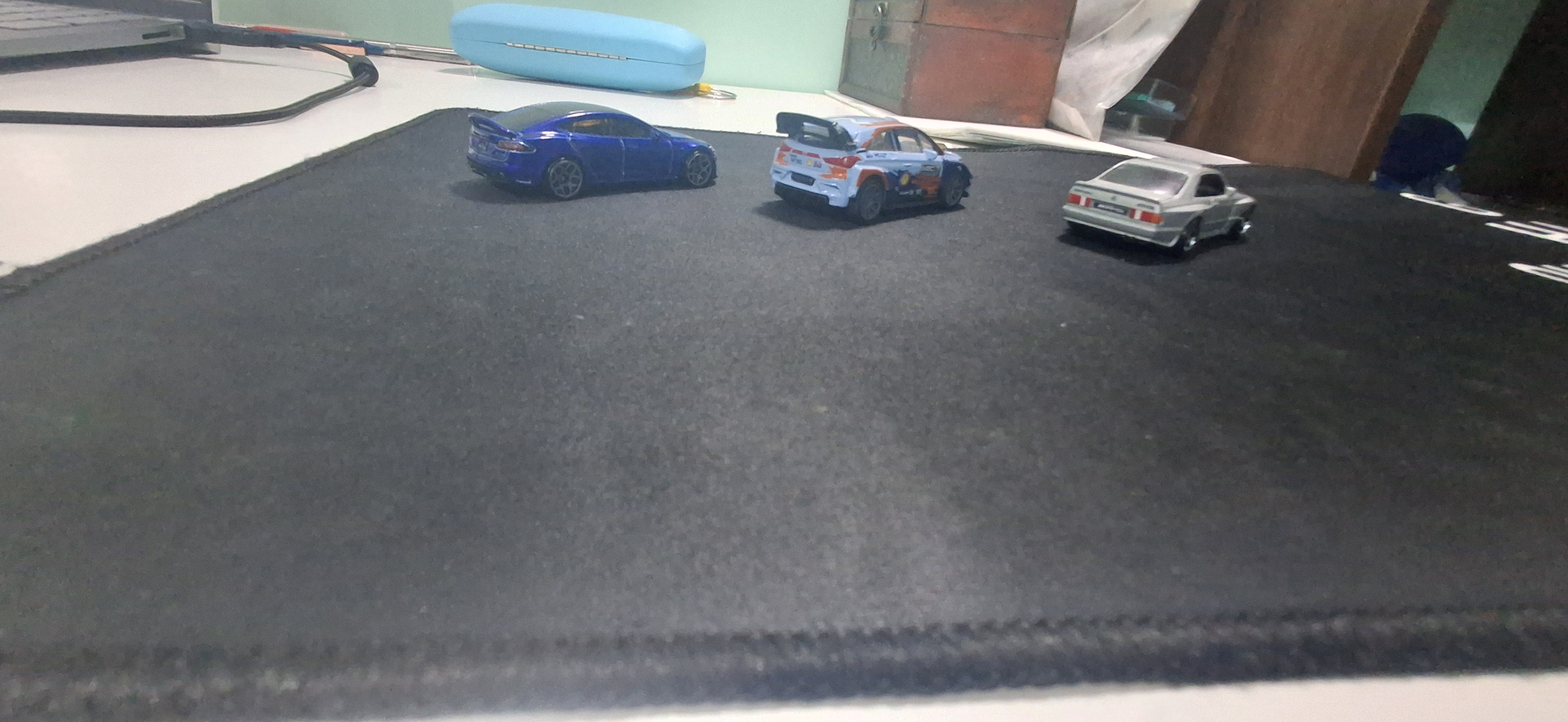Hyundai_I20_WRC: (749, 114, 985, 242)
Mercedes_Benz_560_SEC_AMG: (1039, 129, 1288, 271)
Tesla_Model_S_Plaid: (456, 102, 730, 233)
